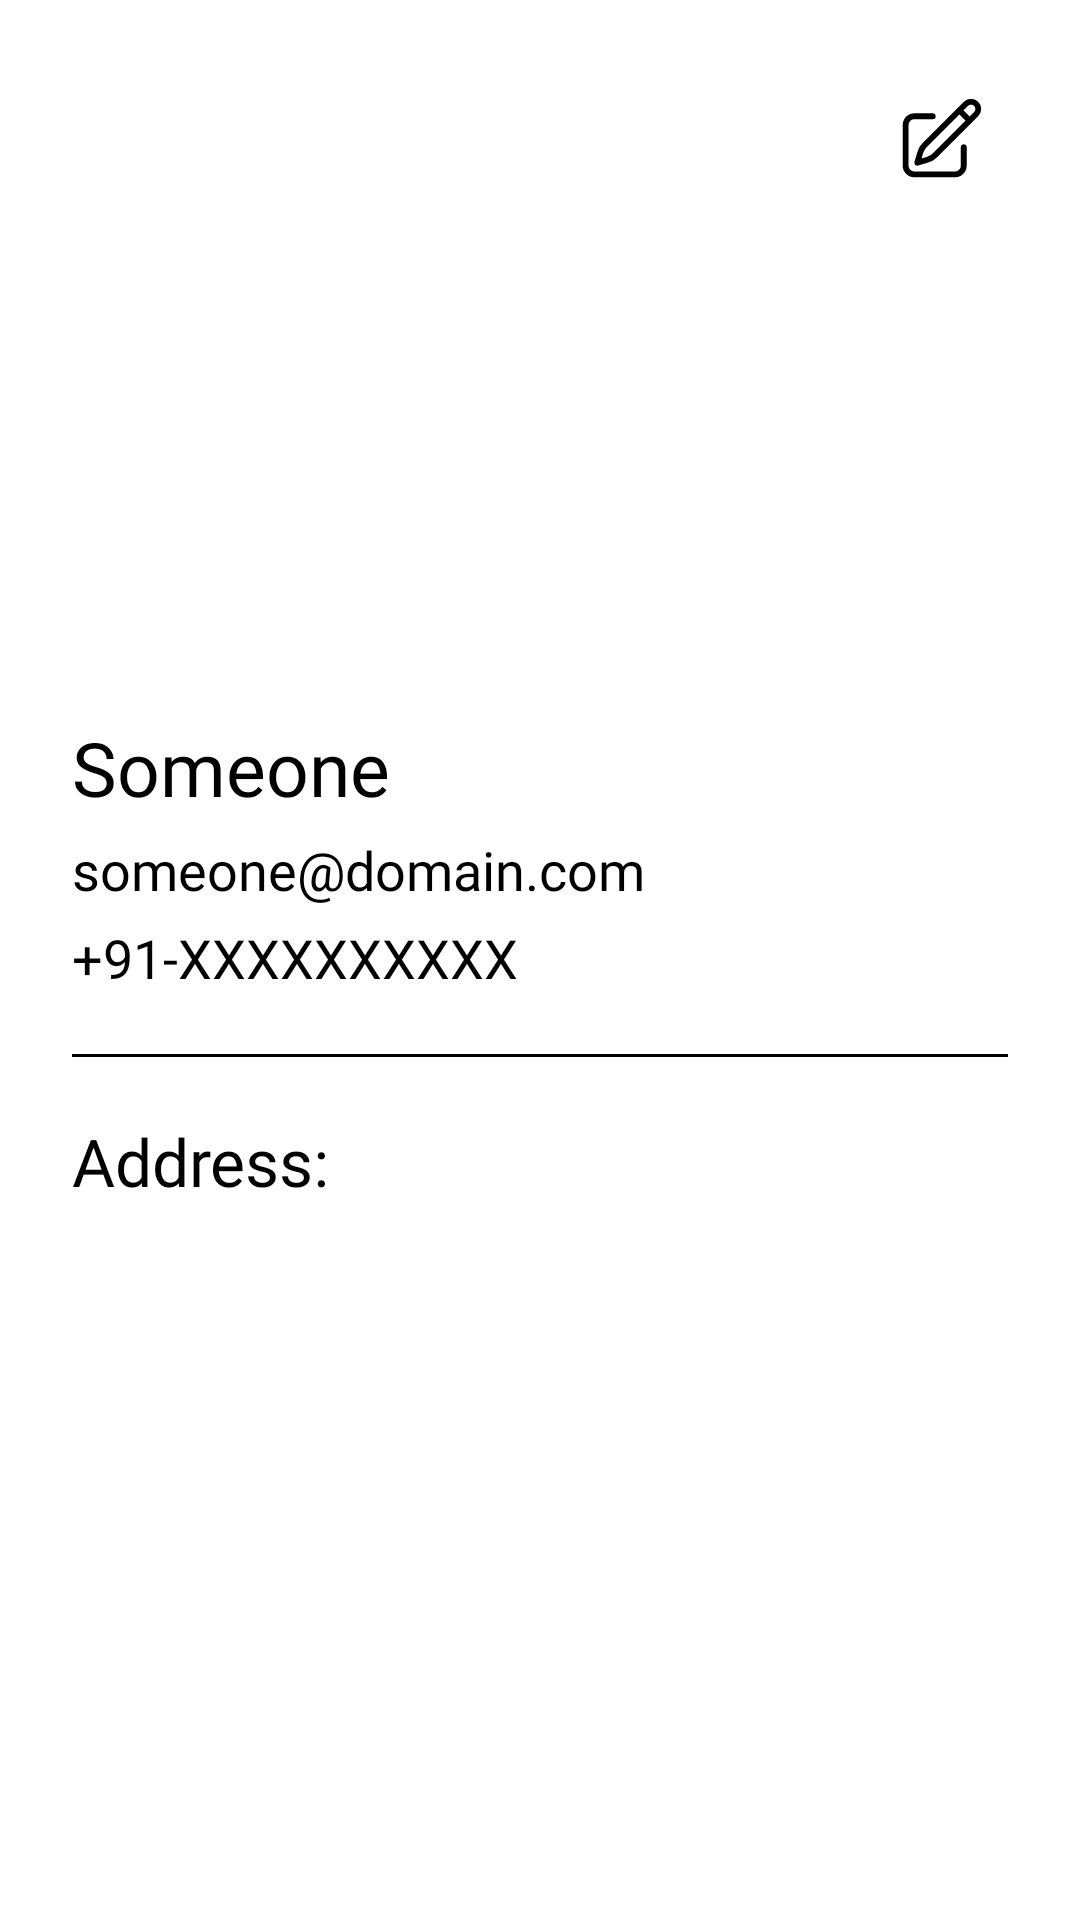

Icons on this 1080w x 1920h Android screen, each with its box as box=[x1, y1, x2, y2]:
edit: box=[902, 98, 981, 178]
